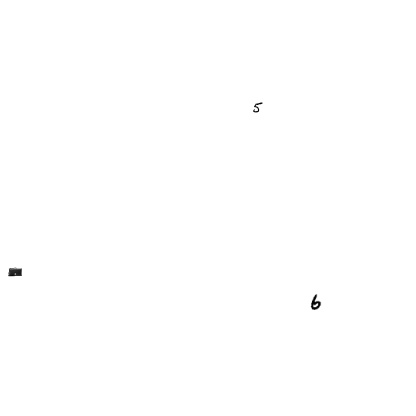5: (250, 100, 264, 114)
6: (304, 292, 326, 314)
Bag: (8, 265, 22, 279)
